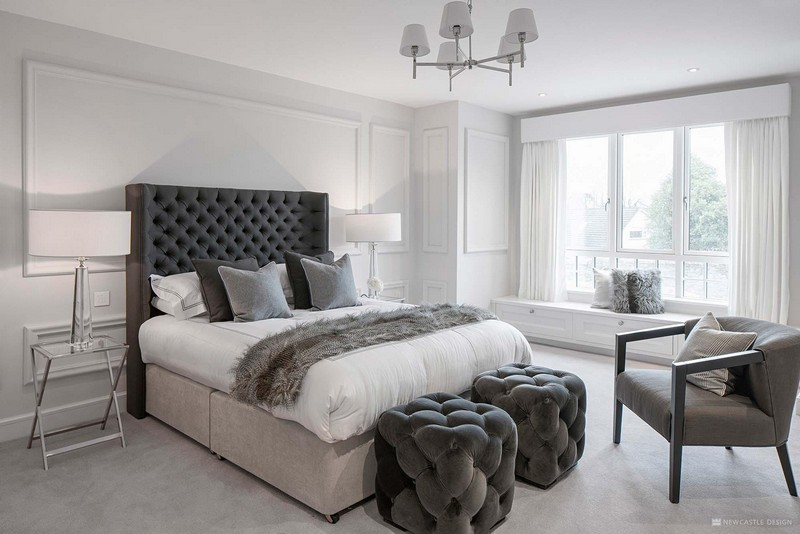bed: (129, 184, 530, 519)
chair: (612, 315, 800, 509)
lamp: (28, 206, 131, 349), (345, 211, 404, 301)
stool: (377, 396, 520, 529), (481, 359, 588, 486), (28, 337, 128, 466)
